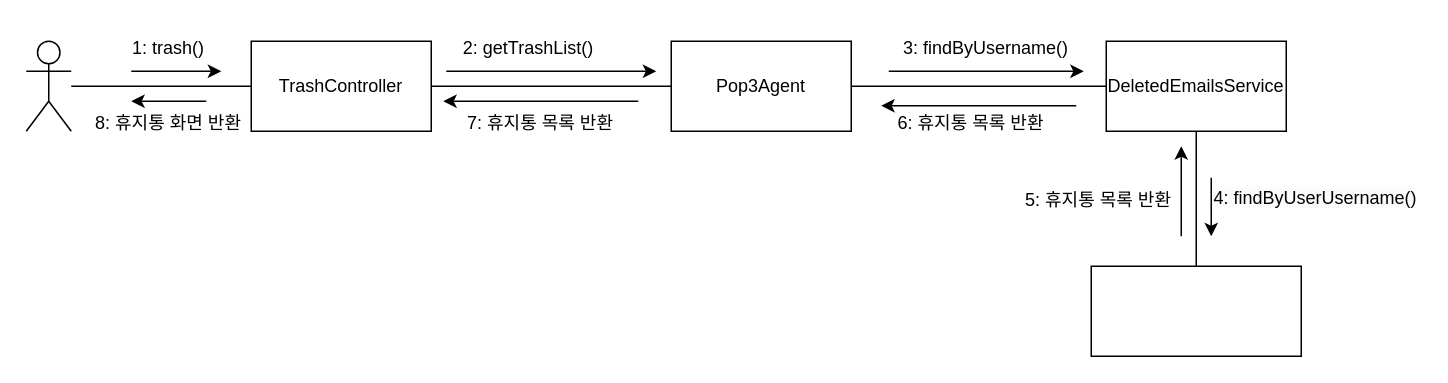
Some shapes in this 1448 by 383 pixel diagram are drawn without their labels. The centre of each missing label's shape, as x and y in pixels:
"Actor" belongs at pixel 48 85.
"DeletedEmailsRepository" belongs at pixel 1195 310.
